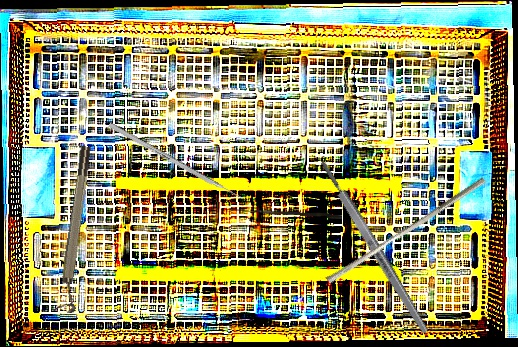Fixation Ring: (52, 145, 101, 314)
Hook Surgical: (228, 209, 343, 219)
Pusher: (325, 170, 487, 290), (107, 122, 253, 206)
Scalpel Handle: (316, 157, 432, 337)
